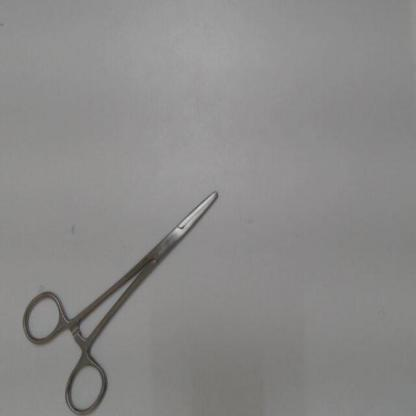Mayo Needle Holder: (15, 166, 240, 414)
